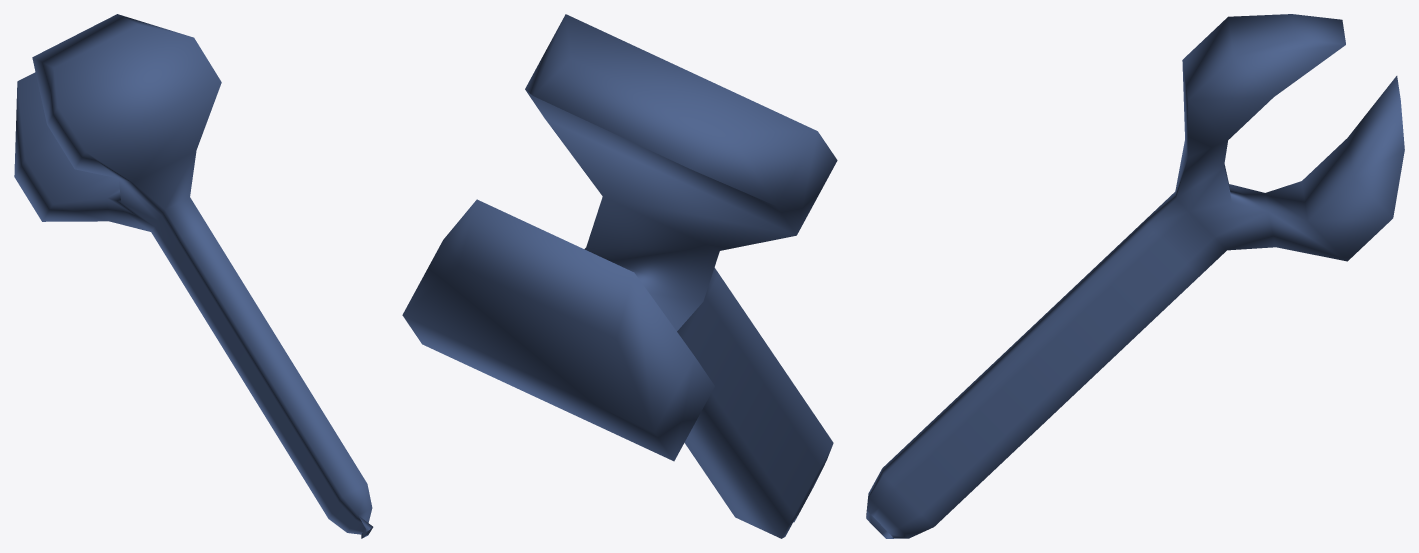
Rendered from WrenchOptions.glb.
The picture shows the model from 3 angles, left to right: view 1: azimuth 30°, elevation 25°; view 2: azimuth 150°, elevation 25°; view 3: azimuth 270°, elevation 25°; orthographic projection. The views are drawn at different scales.
Visible parts, largest first — view 1: Wrench; view 2: Wrench; view 3: Wrench.
Boxes of the visible parts, x1,y1,x2,y2 form: Wrench: [14, 14, 373, 538]; Wrench: [402, 14, 837, 538]; Wrench: [866, 14, 1404, 538].
Size of the model in its own units: 2.01 by 4.48 by 4.66.
